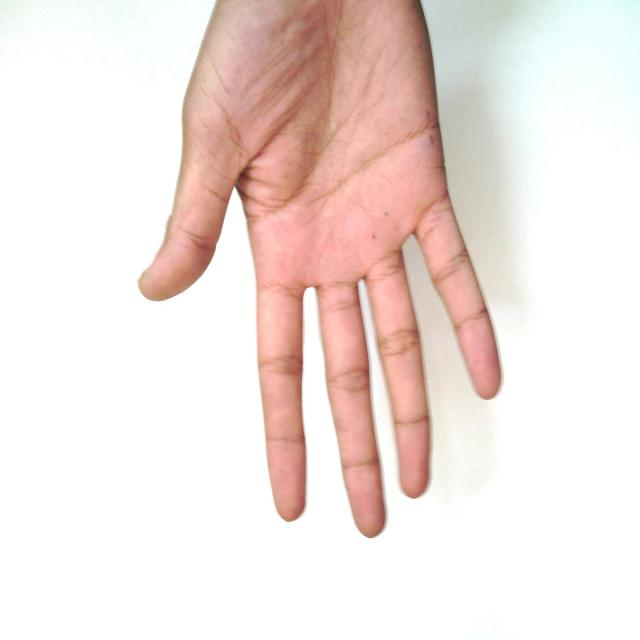others: (133, 1, 563, 545)
